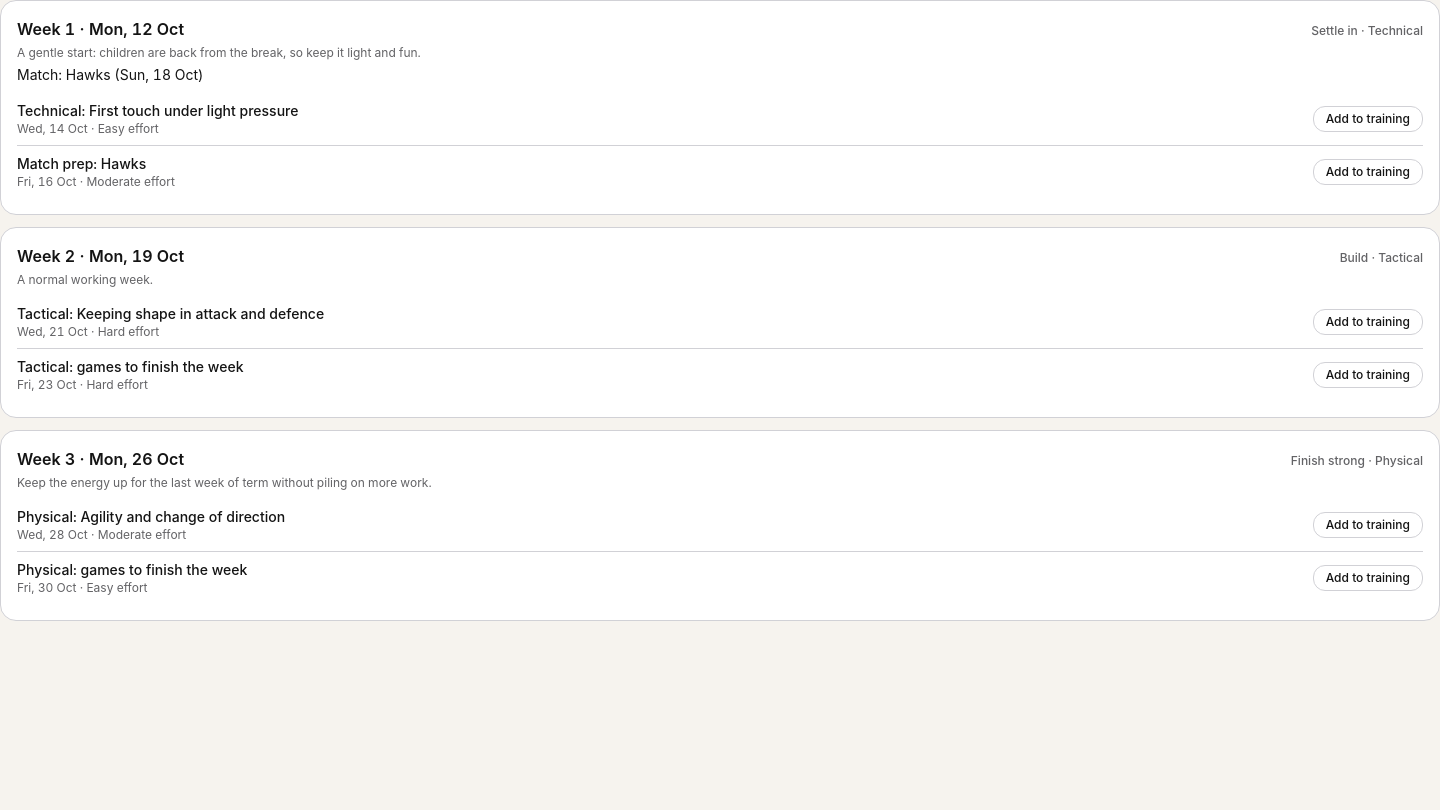
Test: TermPlanView › adds a session and then shows it as on the list
Click the button "Add to training" in the row of "Wed, 14 Oct": x=1368, y=119 [1313, 106, 1423, 132]
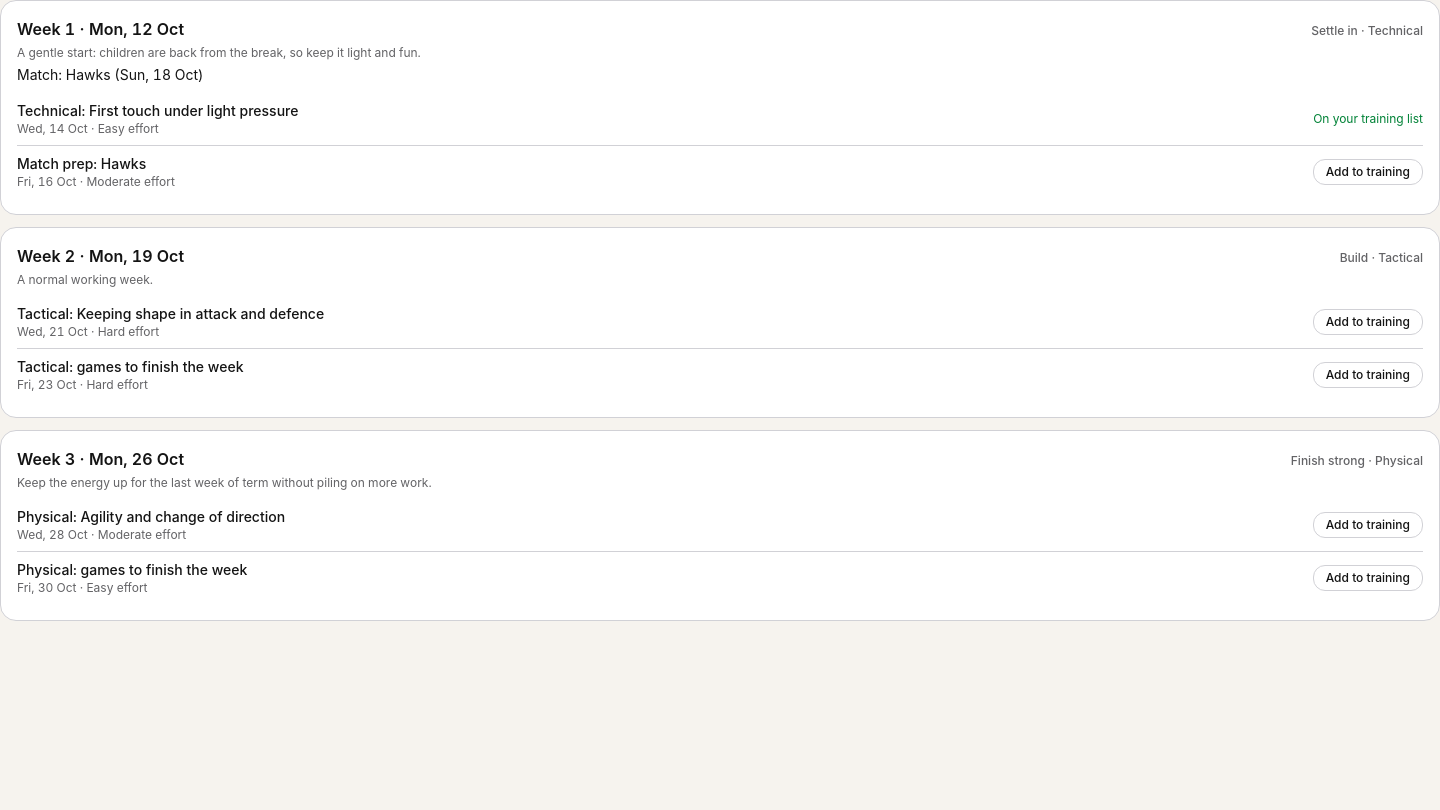
Result: the text "On your training list" is shown once at [1313, 111, 1423, 127]
